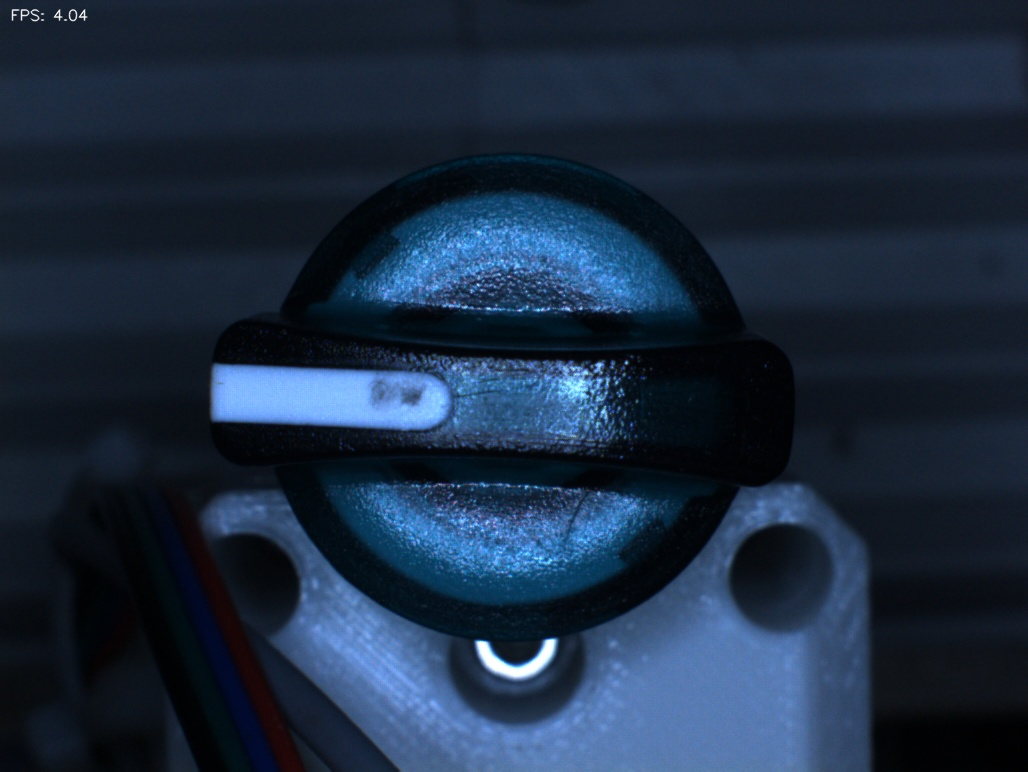PointNoir: (349, 348, 454, 436)
